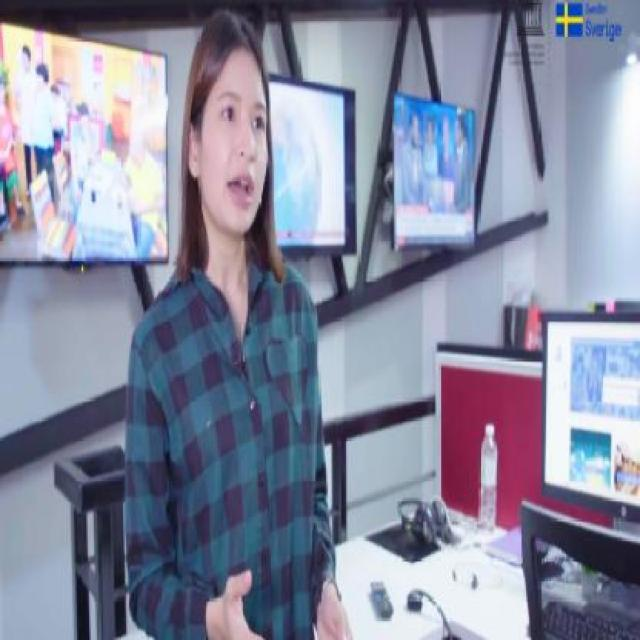sem_oculos: (187, 81, 293, 143)
